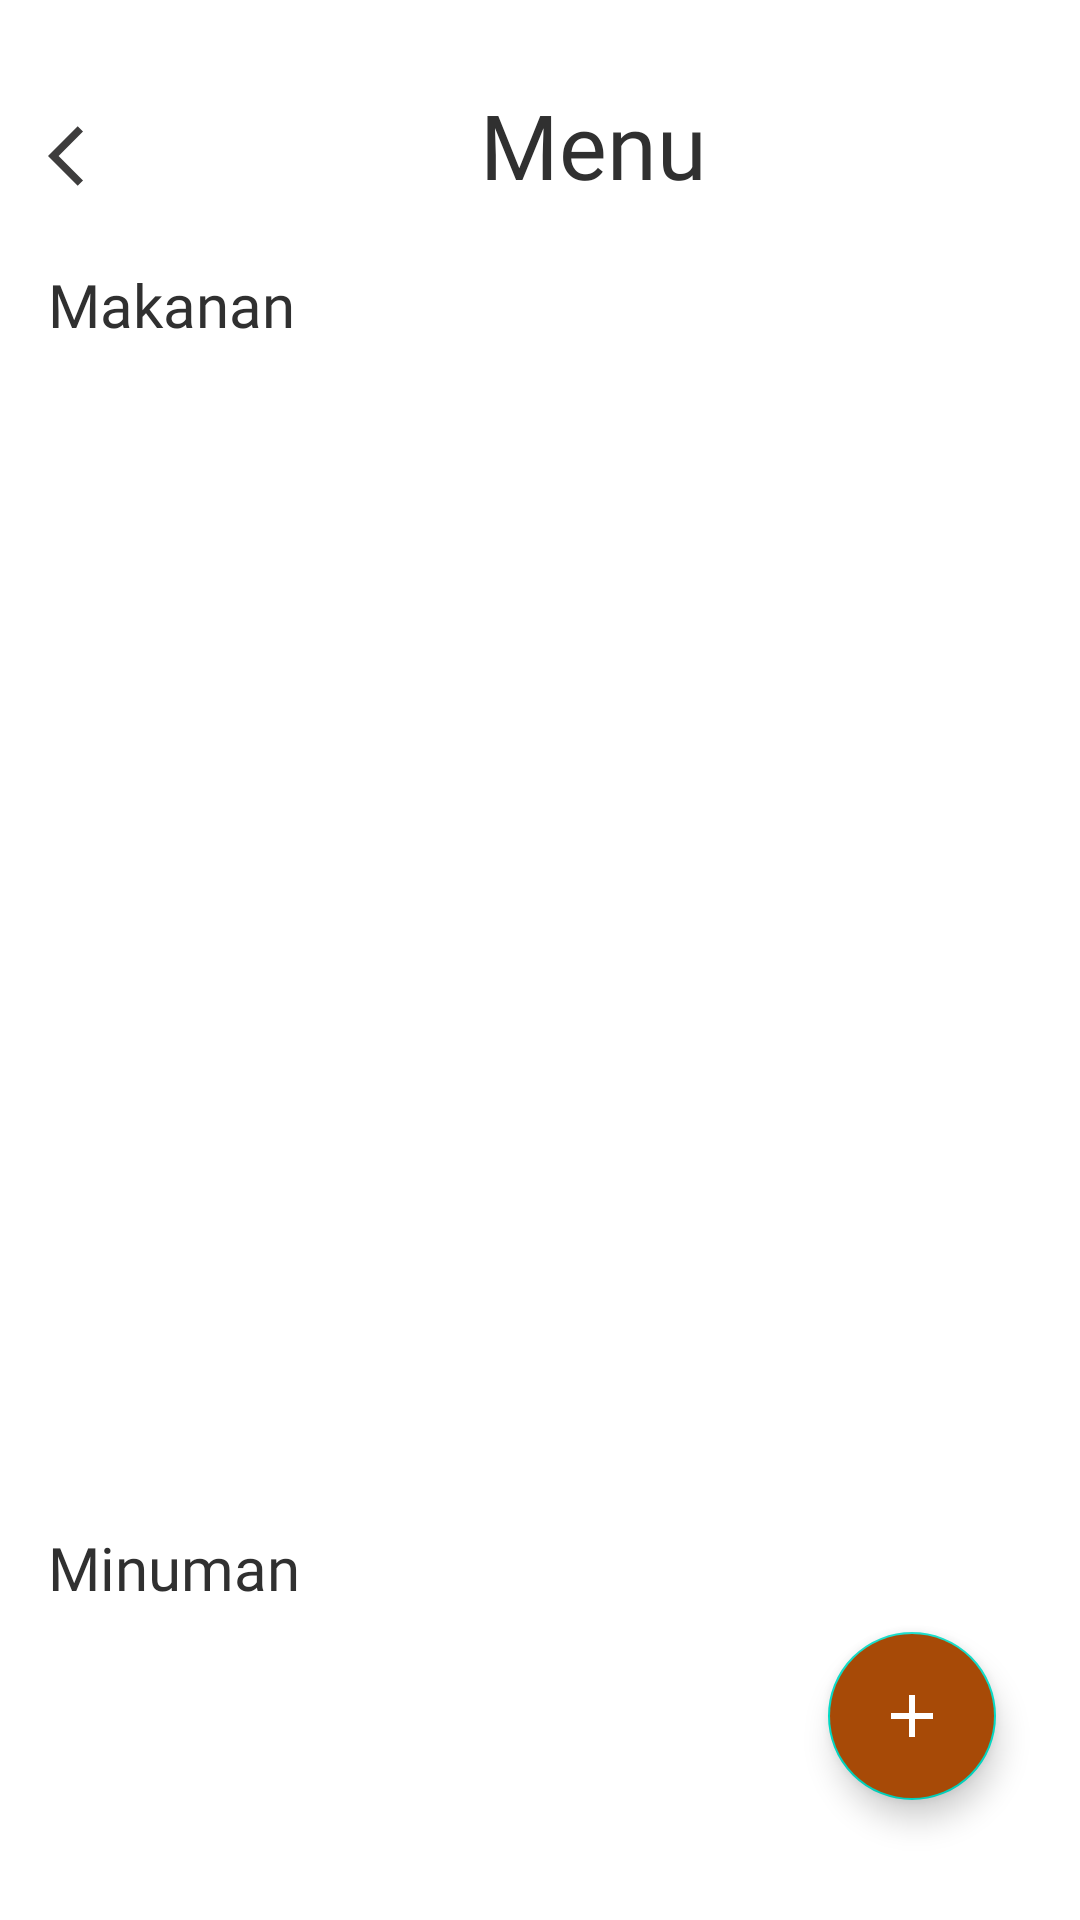

Point at icon controls on the screen. Image size 1080w x 1920h, points as (x,y).
add: (912,1716)
arrow back: (65,156)
